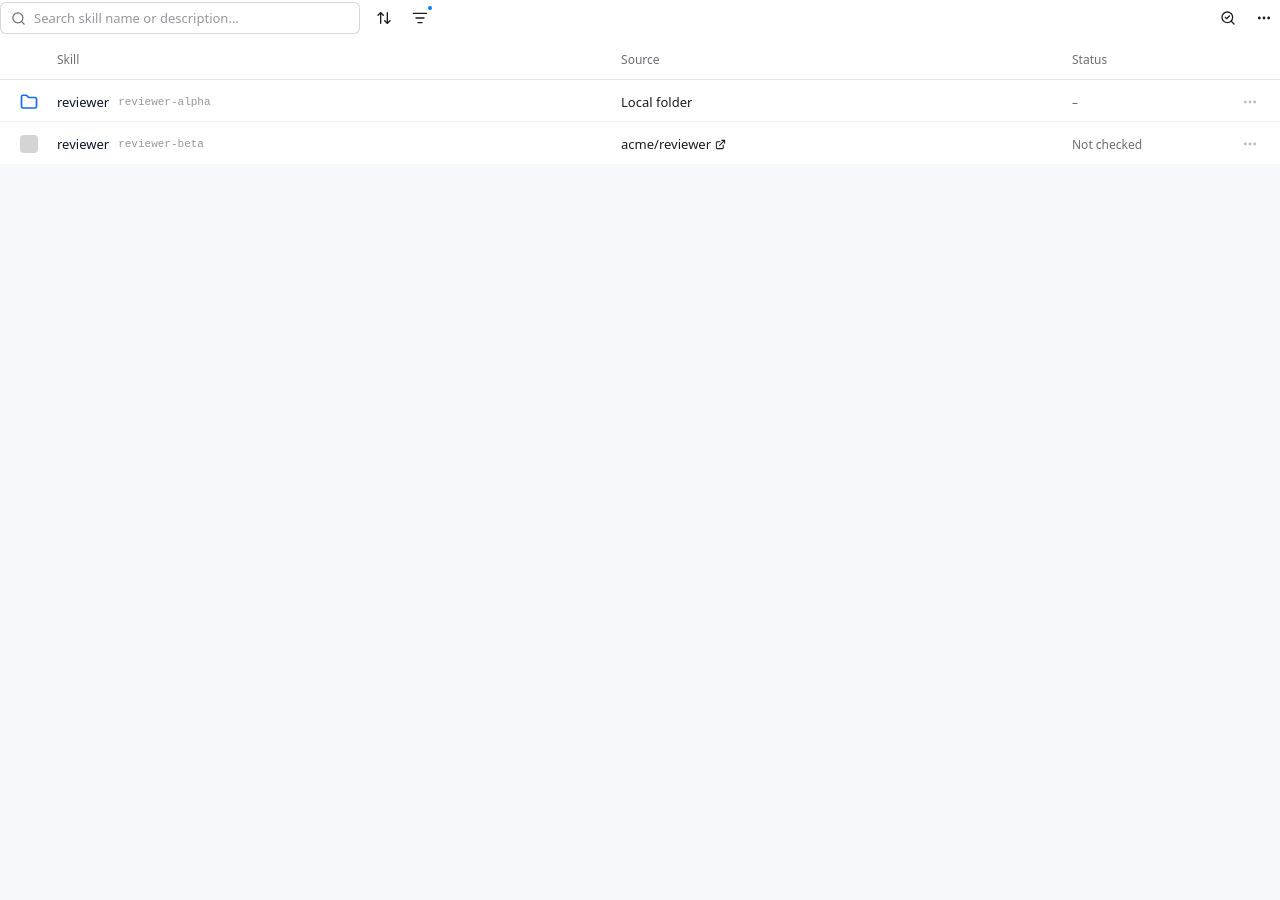
Test case: SkillLibraryPanel › reviews same-name Library differences and keeps content and source choices independent
The width and height of the screenshot is (1280, 900).
Click the button named "More actions for reviewer-alpha" at coordinates (1250, 102), box [1234,86,1266,118]
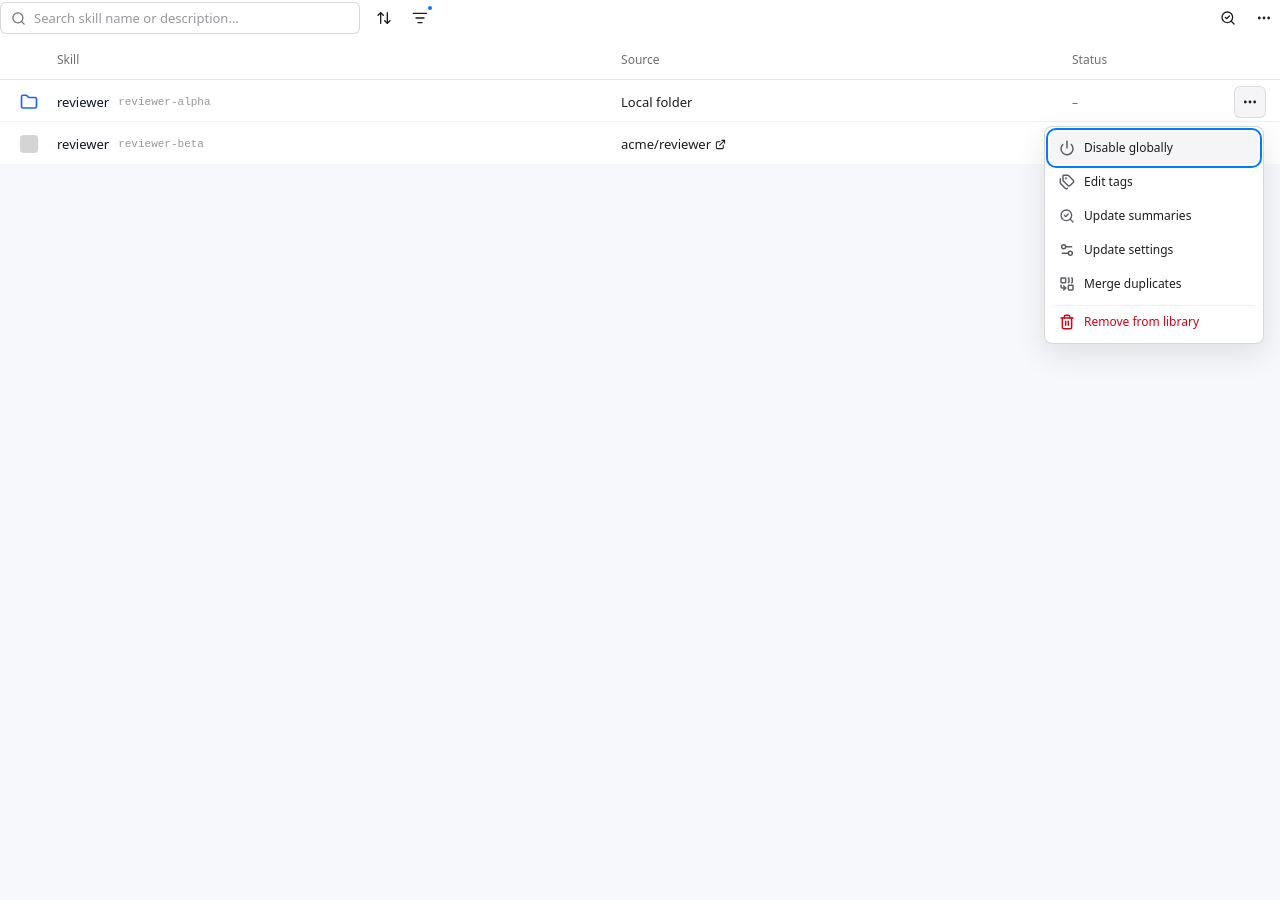
Click the menu item "Merge duplicates" at coordinates (1154, 284), box [1050,268,1258,300]
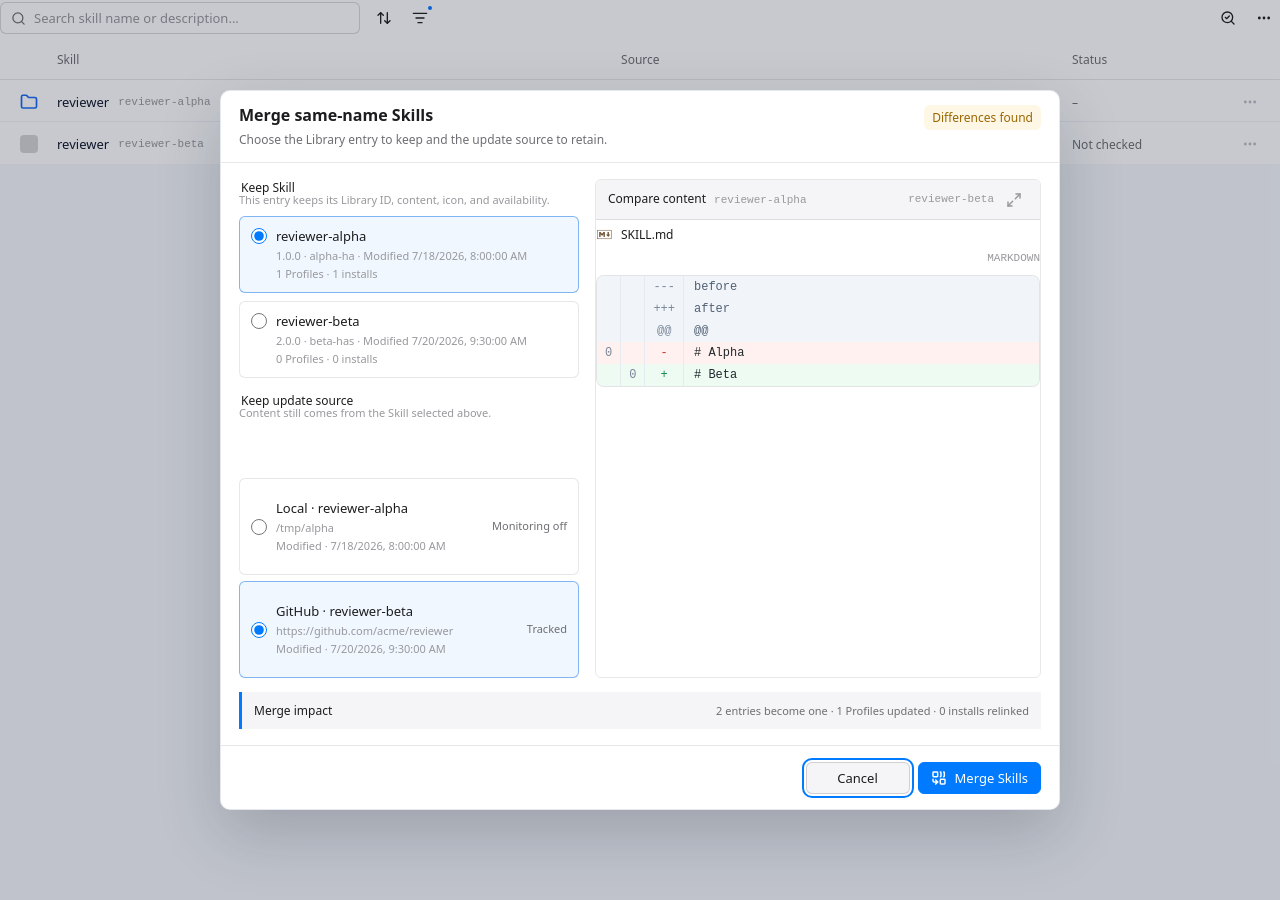
Check: the dialog "Merge same-name Skills" shows "Modified", box [276,538,322,553]
Check: the text "SKILL.md" is shown, box [621,226,674,243]
Click the radio button labelled "reviewer-beta" at coordinates (259, 321), box [251,313,267,329]
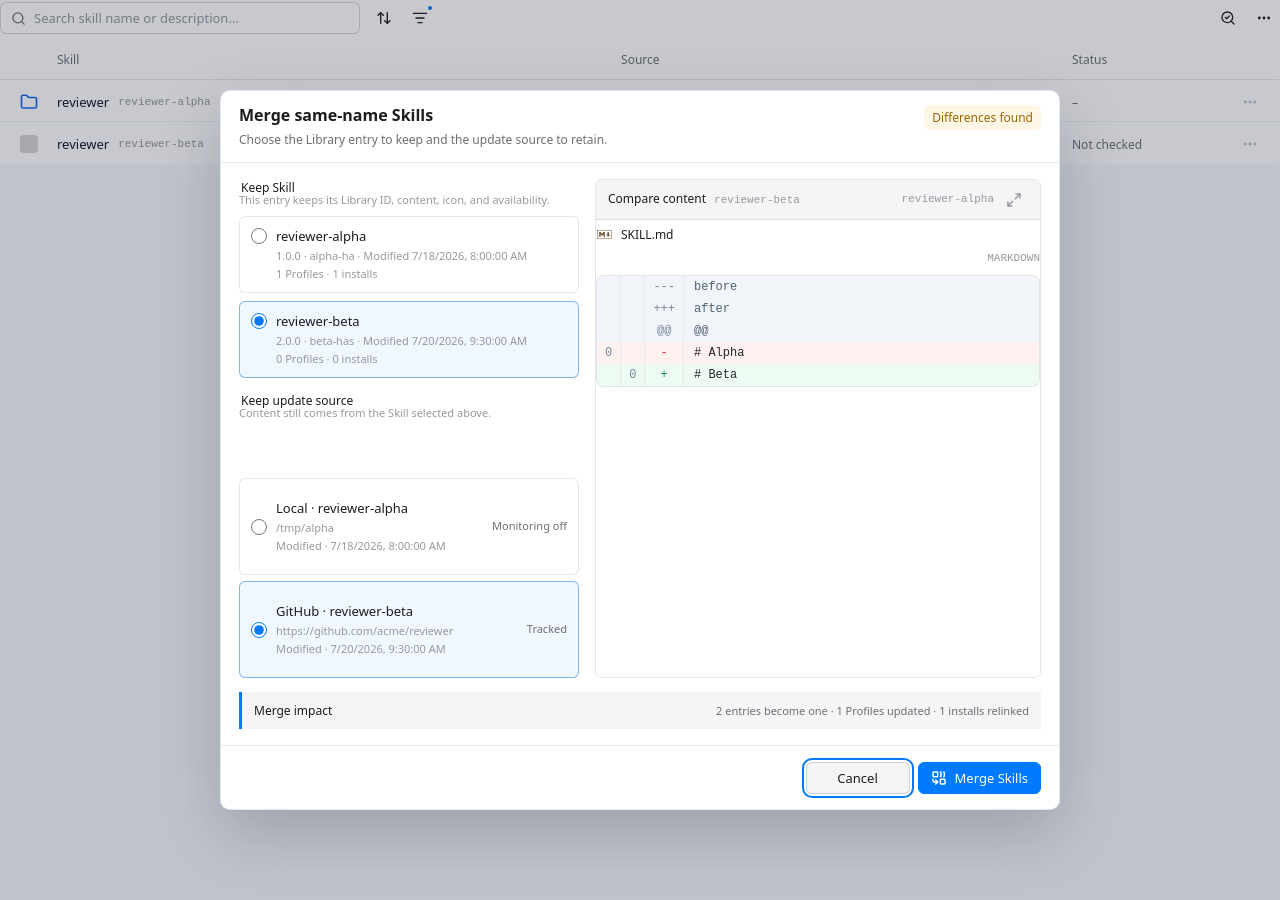
Click the radio button labelled "reviewer-alpha" at coordinates (259, 527), box [251,519,267,535]
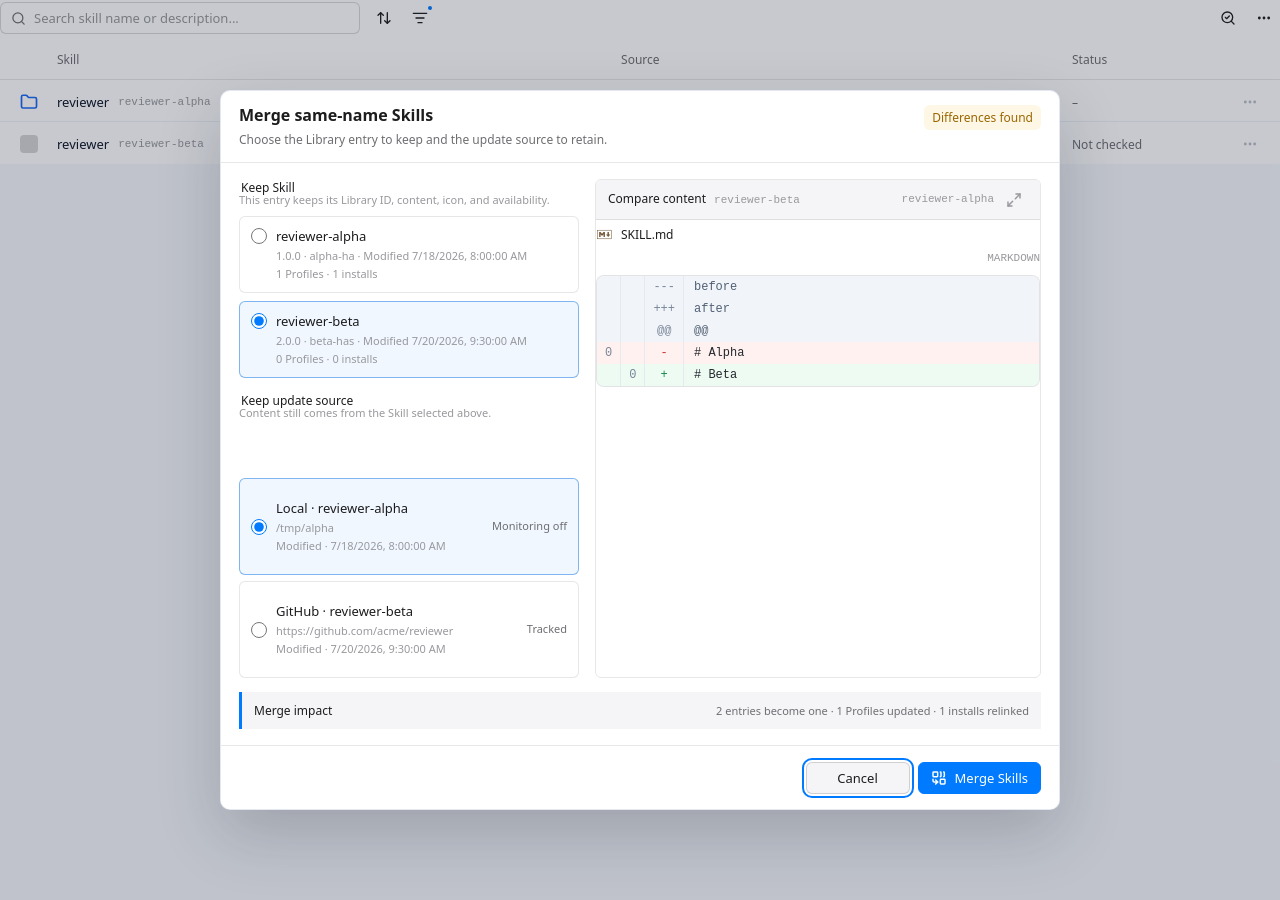
Click the button "Merge Skills" at coordinates (979, 778), box [918,762,1041,794]
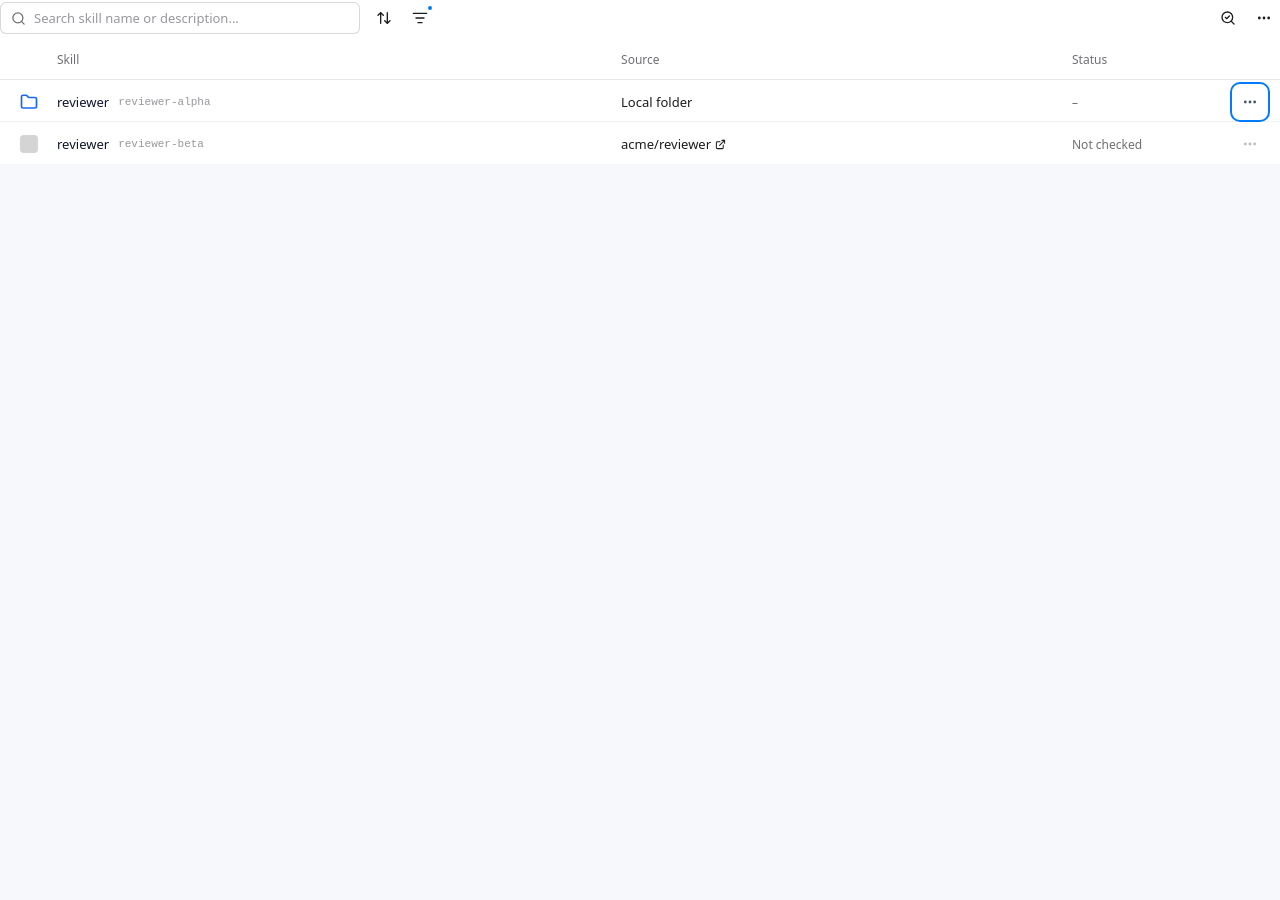
Check: the text "Merge same-name Skills" is gone
